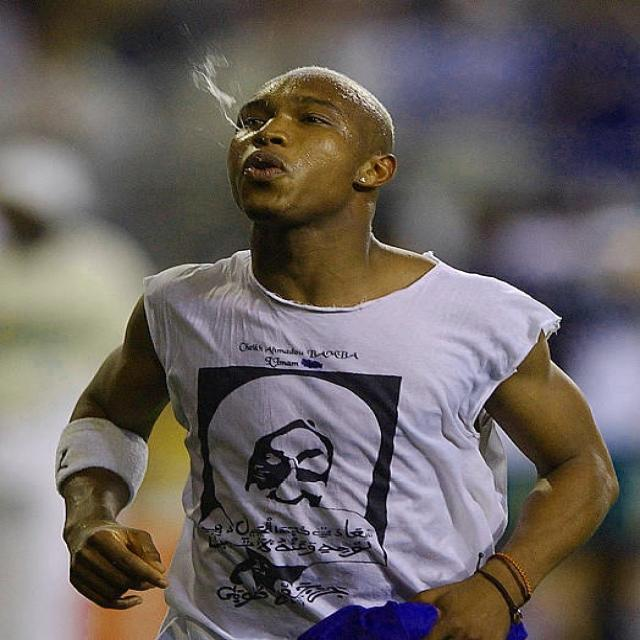Spitting: (193, 54, 397, 273)
